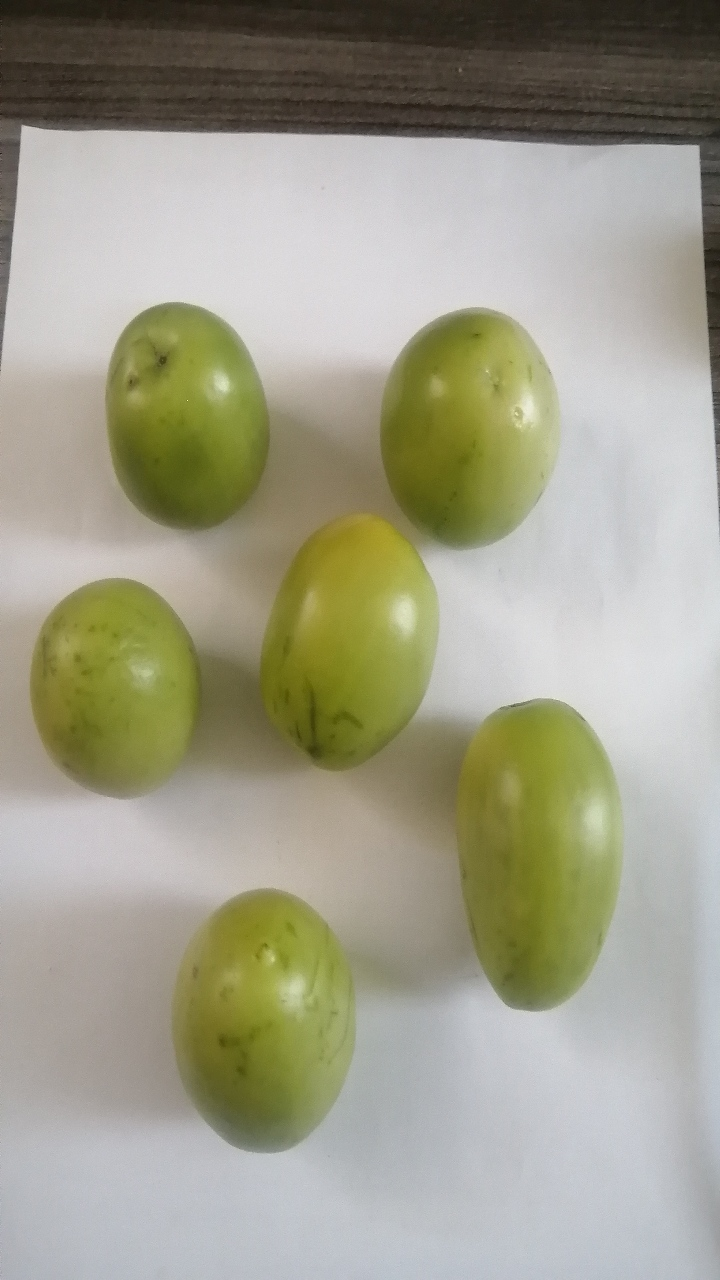tomateVerde: (426, 691, 638, 1049), (231, 489, 452, 780), (154, 869, 368, 1166), (6, 569, 226, 849), (80, 286, 274, 546), (380, 305, 568, 549)
